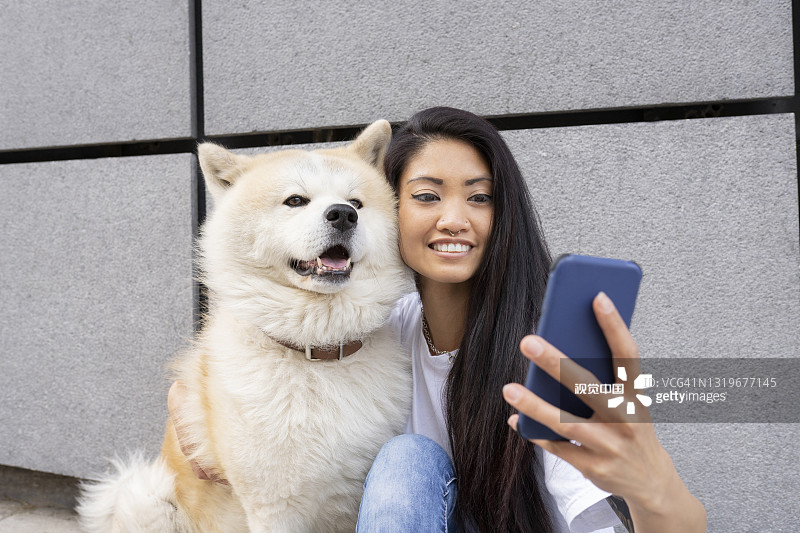taking photos: (488, 253, 734, 533)
